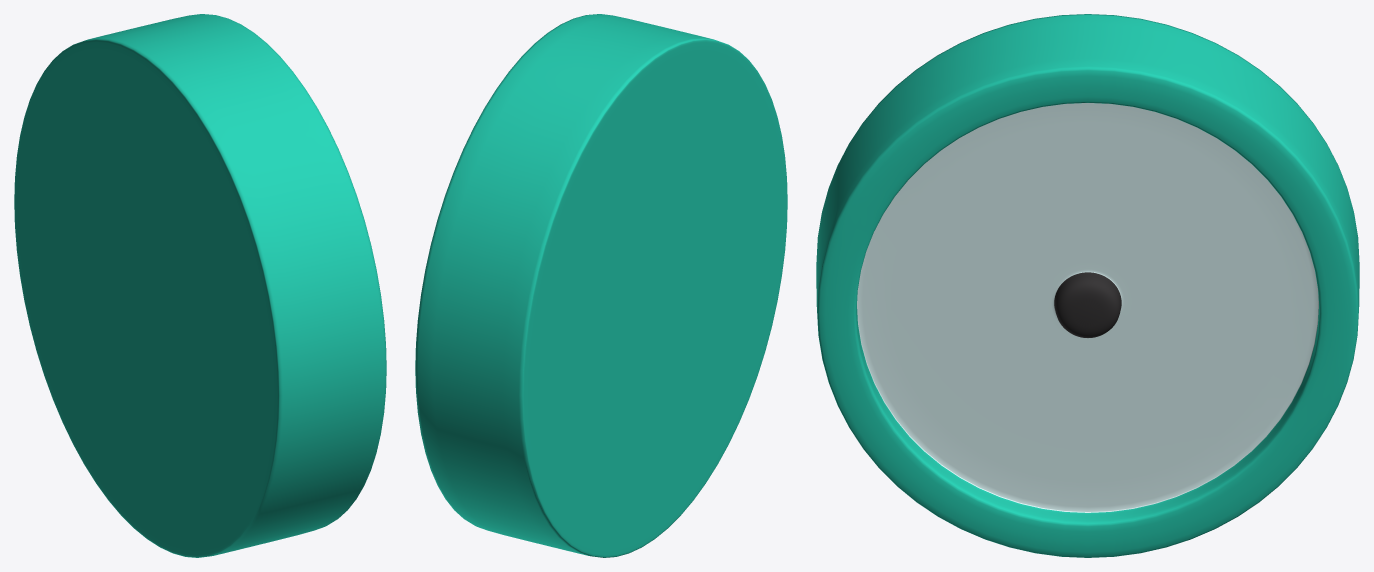
Rendered from ClockBase.fbx.
3 views of the same model, side by side, from view 1: azimuth 30°, elevation 25°; view 2: azimuth 150°, elevation 25°; view 3: azimuth 270°, elevation 25° (orthographic). The views are drawn at different scales.
Parts seen in each view (by area): view 1: Clock Base; view 2: Clock Base; view 3: Clock Base.
Part boxes in pixels (x1,y1,x2,y2): Clock Base: (14, 14, 386, 557); Clock Base: (415, 14, 787, 557); Clock Base: (816, 14, 1359, 557).
Size of the model in its own units: 45606 by 190542 by 190542.
1 material, 1 textured.
